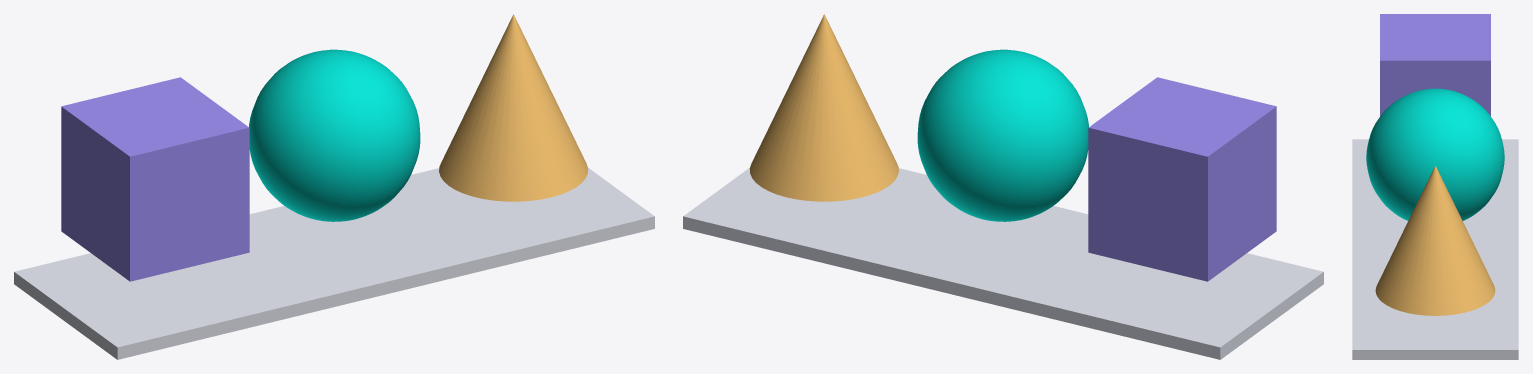
Rendered from fixture.glb.
3 views of the same model, side by side, from view 1: azimuth 30°, elevation 25°; view 2: azimuth 150°, elevation 25°; view 3: azimuth 270°, elevation 25° (orthographic). The views are drawn at different scales.
Parts seen in each view (by area): view 1: fixture-base, fixture-cube, fixture-sphere, fixture-cone; view 2: fixture-base, fixture-cube, fixture-sphere, fixture-cone; view 3: fixture-base, fixture-sphere, fixture-cone, fixture-cube.
Boxes of the visible parts, left/top/right/bottom form: fixture-base: left=14, top=167, right=654, bottom=359; fixture-cube: left=61, top=77, right=249, bottom=281; fixture-sphere: left=249, top=49, right=420, bottom=221; fixture-cone: left=439, top=14, right=588, bottom=201; fixture-base: left=683, top=167, right=1323, bottom=359; fixture-cube: left=1088, top=77, right=1276, bottom=281; fixture-sphere: left=917, top=49, right=1088, bottom=221; fixture-cone: left=749, top=14, right=898, bottom=201; fixture-base: left=1352, top=139, right=1518, bottom=359; fixture-sphere: left=1366, top=88, right=1504, bottom=220; fixture-cone: left=1375, top=165, right=1495, bottom=315; fixture-cube: left=1380, top=14, right=1490, bottom=116.
Bounding box in the file's own units: 5.4 × 1.91 × 1.8.
